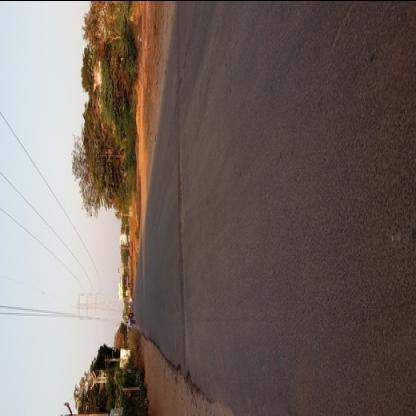speed-bumps: (165, 0, 194, 385)
